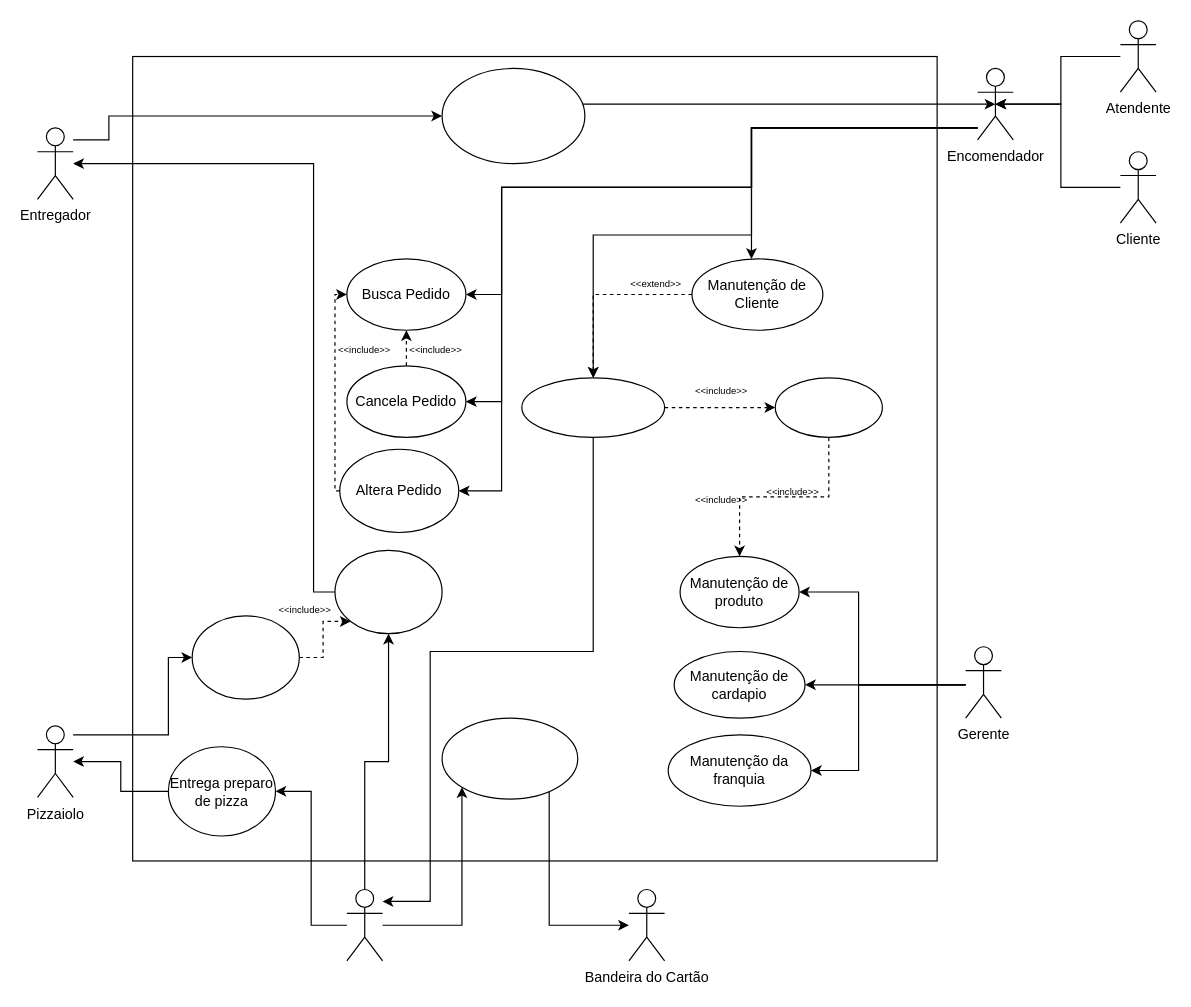
The diagram is 1191 pixels wide and 1007 high, and some of its shapes have lost their labels. Here are the shapes that lost their labels. From the top down, the centre of each, then its label:
At point (513, 115): "Entrega Pizza".
At point (593, 407): "Inclui o Pedido".
At point (828, 407): "Busca Produto".
At point (388, 591): "Envia dados de Entrega e Pizza".
At point (245, 657): "Libera a pizza para a entrega".
At point (509, 758): "Valida Pagamento".
At point (364, 924): "Franquia".
